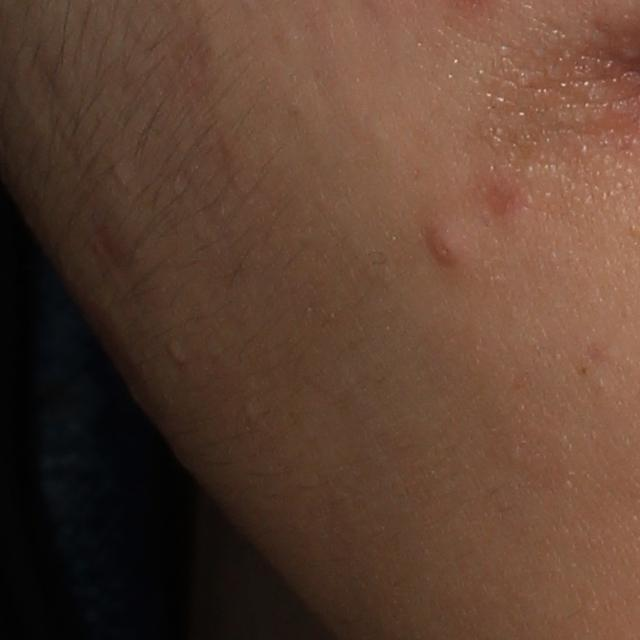papule: (422, 224, 473, 271)
